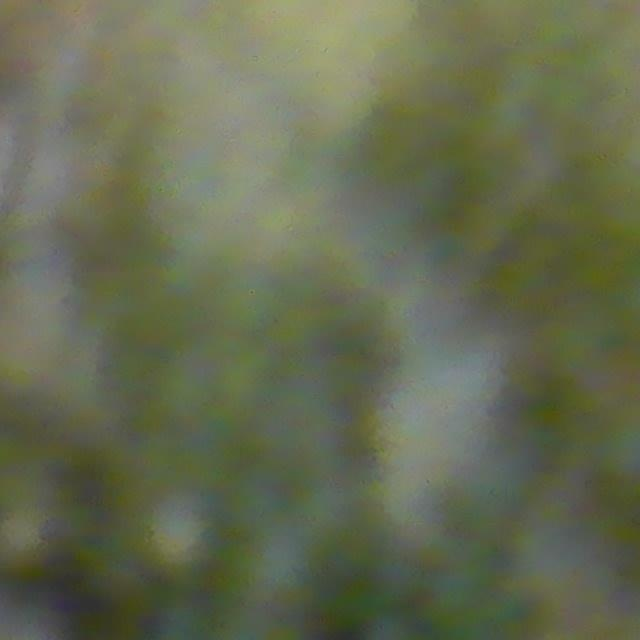SeaGrape: (229, 522, 322, 612), (136, 486, 223, 578)
